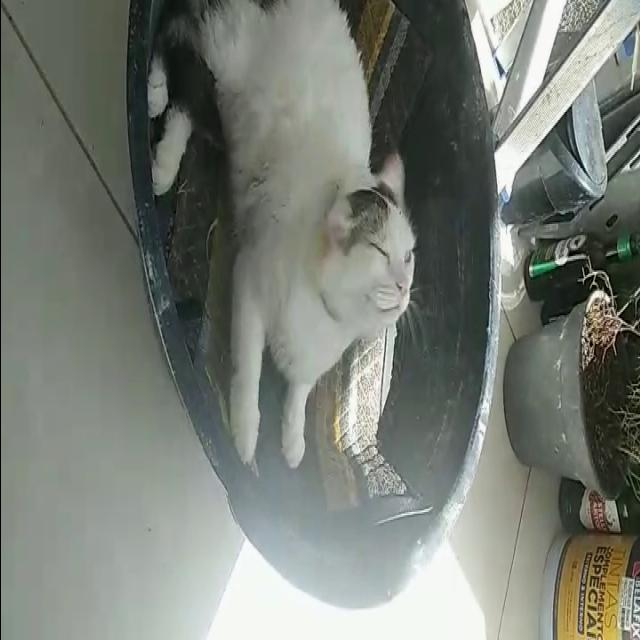Simba: (163, 15, 433, 499)
